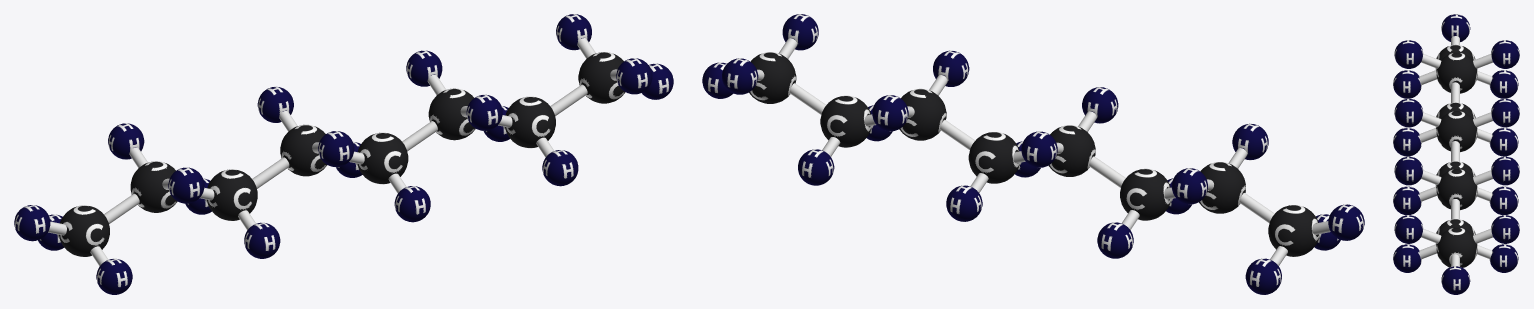
Rendered from C8H18_tex.FBX.
The picture shows the model from 3 angles, left to right: view 1: azimuth 30°, elevation 25°; view 2: azimuth 150°, elevation 25°; view 3: azimuth 270°, elevation 25°; orthographic projection. The views are drawn at different scales.
Visible parts, largest first — view 1: Sphere005, Sphere007, Sphere003, Sphere002, Sphere004, Sphere008, Sphere001, Sphere006, H016, H015, H1, H003 (+15 smaller); view 2: Sphere007, Sphere003, Sphere005, Sphere002, Sphere006, Sphere008, Sphere004, Sphere001, H006, H002, H010, H017 (+15 smaller); view 3: Sphere001, Sphere004, Sphere006, Sphere008, H009, H013, H1, H018, H008, H012, H016, H007 (+34 smaller).
Part boxes in pixels (x1,y1,x2,y2): Sphere005: (357, 132, 408, 184); Sphere007: (505, 96, 555, 148); Sphere003: (207, 169, 257, 220); Sphere002: (59, 205, 109, 256); Sphere004: (280, 124, 326, 176); Sphere008: (578, 52, 625, 103); Sphere001: (130, 161, 177, 212); Sphere006: (428, 88, 475, 140); H016: (616, 58, 652, 94); H015: (542, 150, 578, 186); H1: (168, 167, 204, 203); H003: (96, 258, 132, 294); Sphere007: (820, 95, 871, 147); Sphere003: (1120, 168, 1171, 220); Sphere005: (968, 132, 1019, 183); Sphere002: (1268, 205, 1319, 256); Sphere006: (899, 88, 946, 140); Sphere008: (749, 52, 796, 103); Sphere004: (1048, 125, 1095, 176); Sphere001: (1199, 162, 1245, 213); H006: (1097, 222, 1133, 258); H002: (1171, 168, 1207, 204); H010: (946, 185, 982, 221); H017: (722, 58, 758, 94); Sphere001: (1436, 52, 1477, 93); Sphere004: (1436, 111, 1477, 152); Sphere006: (1436, 169, 1477, 210); Sphere008: (1436, 227, 1477, 267); H009: (1491, 98, 1519, 127); H013: (1491, 156, 1519, 185); H1: (1394, 40, 1423, 68); H018: (1441, 266, 1470, 294); H008: (1394, 98, 1423, 127); H012: (1394, 156, 1423, 185); H016: (1394, 215, 1423, 243); H007: (1393, 127, 1421, 156).
Size of the model in its own units: 584 by 90.16 by 122.
2 materials, 2 textured.
